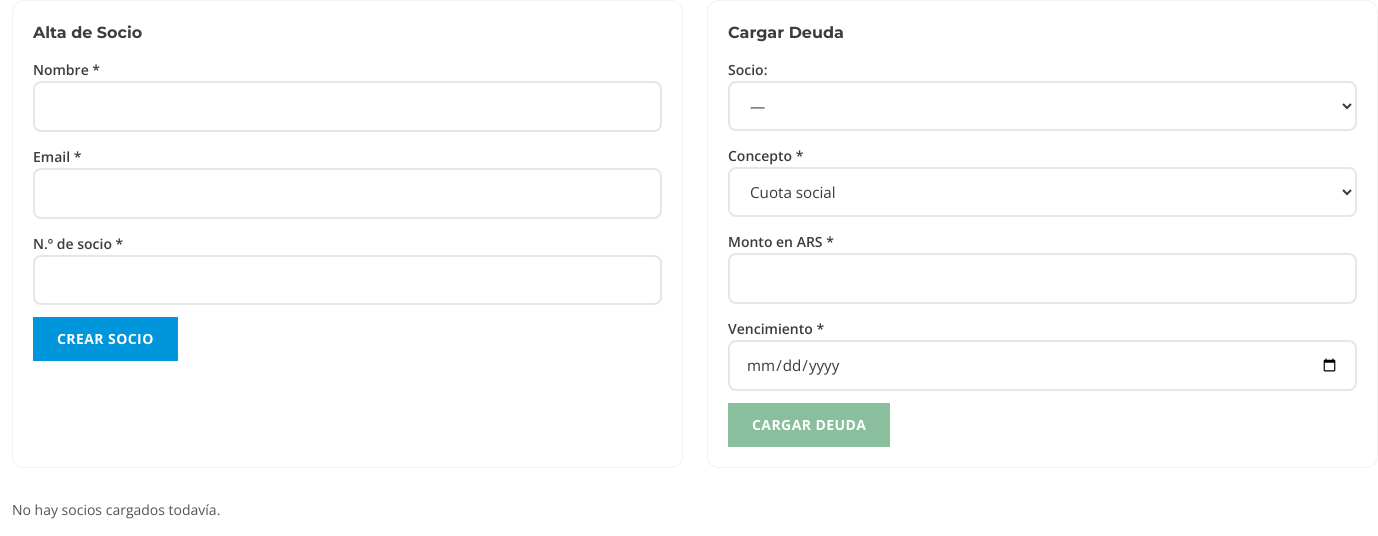
Scenario: SociosTab › shows an error when creating a member with a duplicate email/number
This screenshot has width=1378, height=536.
Expected: the text "No hay socios cargados todavía." is shown, [12,500,220,519]
In the field below "Nombre *": (348, 106) [33,81,662,132], type "María Gómez"
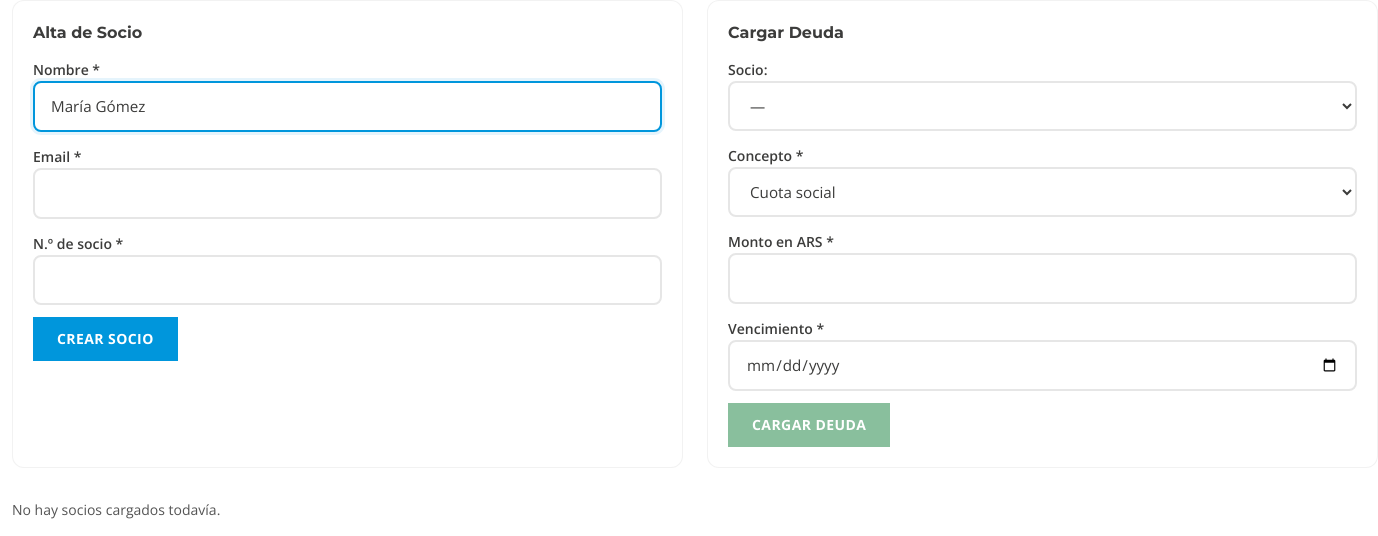
In the field below "Email *": (348, 193) [33,168,662,219], type "maria@test.local"
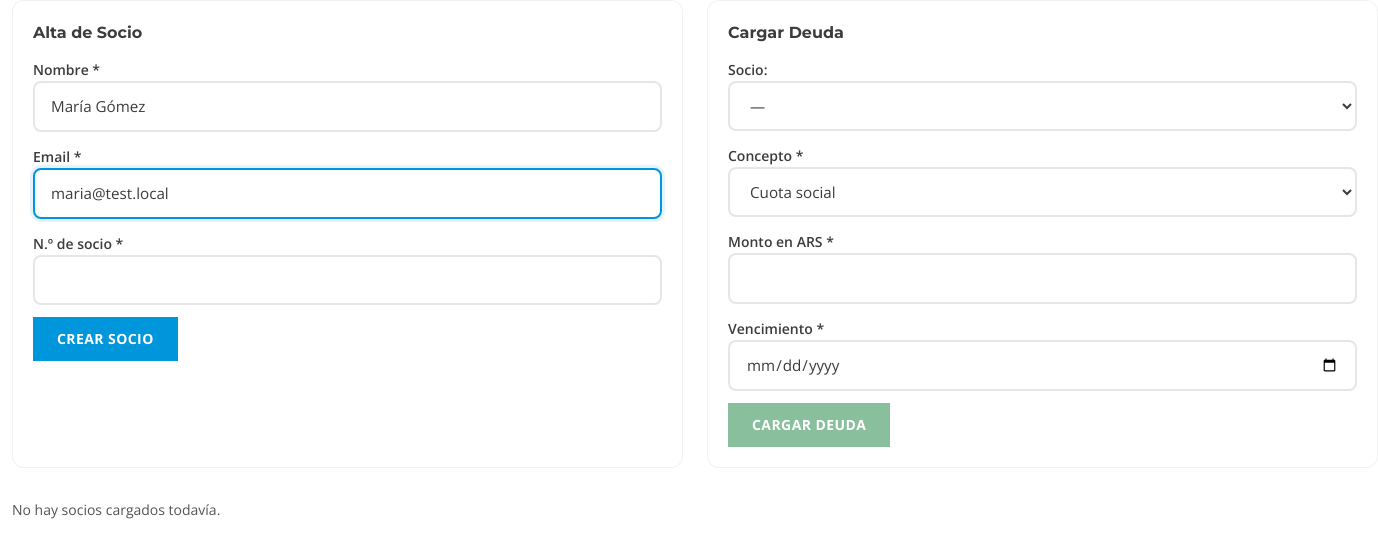
In the field below "N.º de socio *": (348, 280) [33,255,662,305], type "SOC-001"
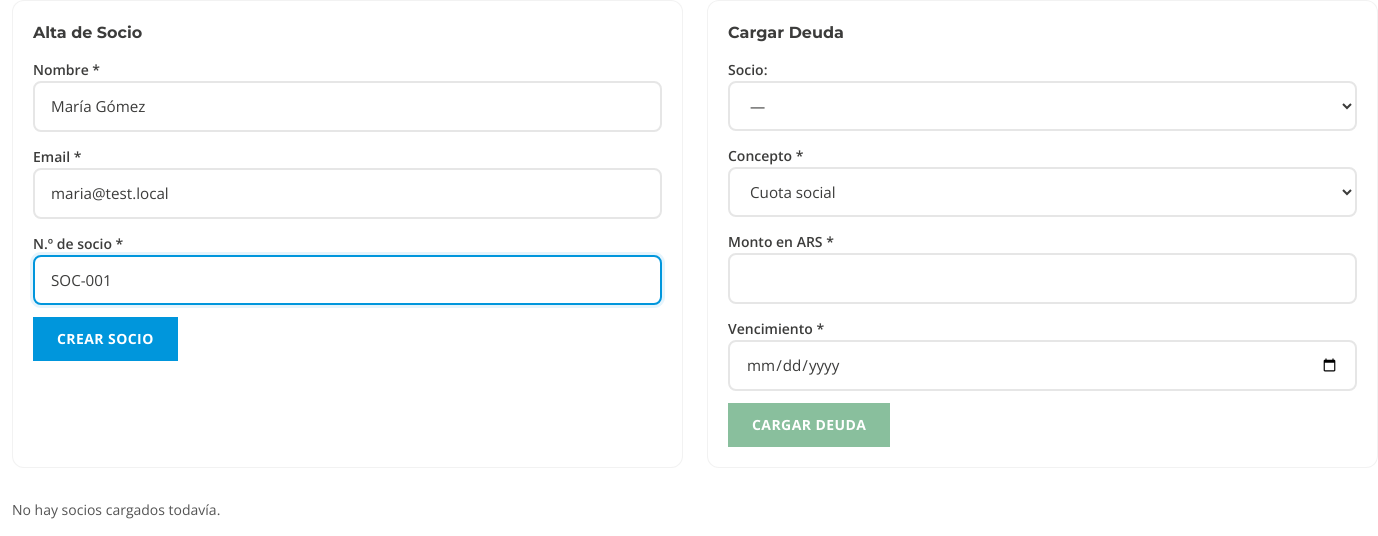
Click the button "Crear Socio": click(105, 339) [33,317,178,361]
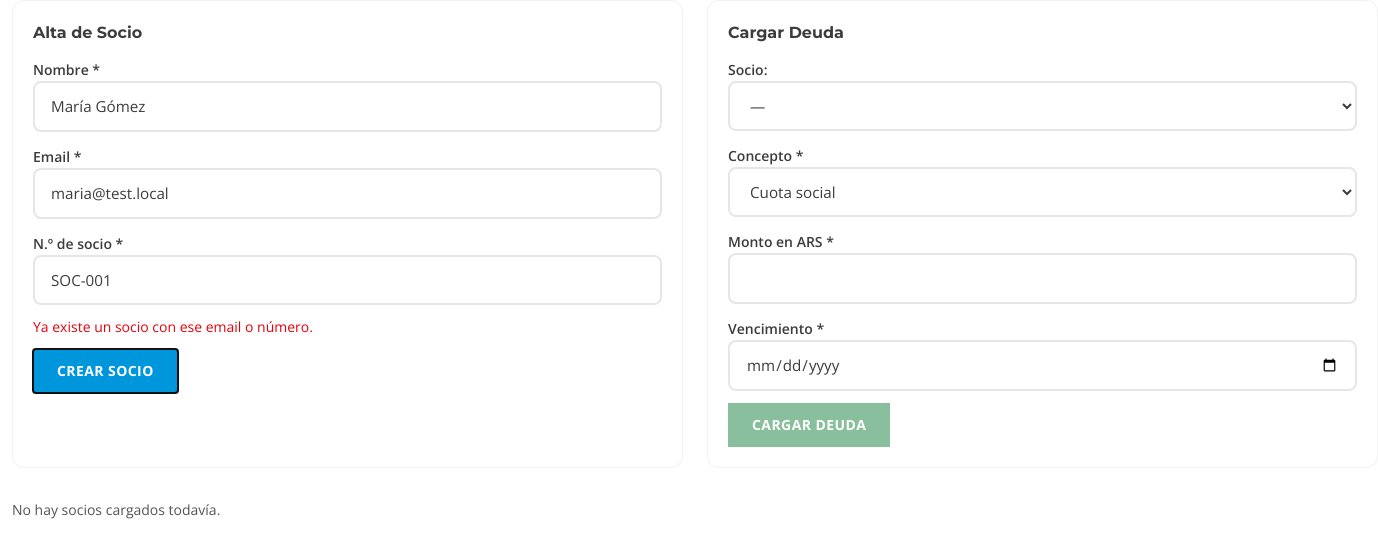
Result: the text "Ya existe un socio con ese email o número." is shown at [33,317,313,336]
